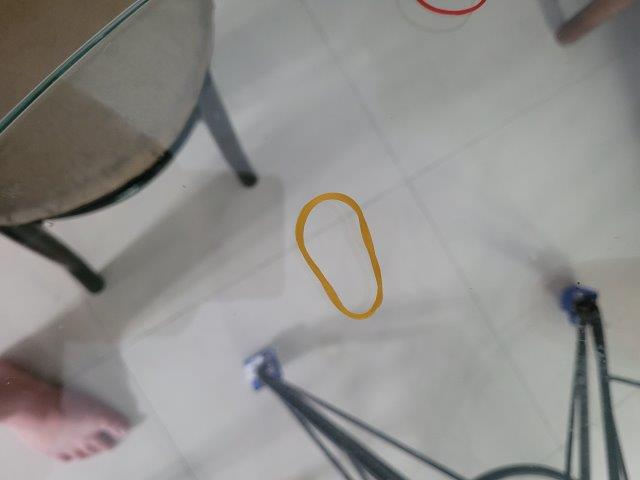karet: (295, 192, 385, 320)
